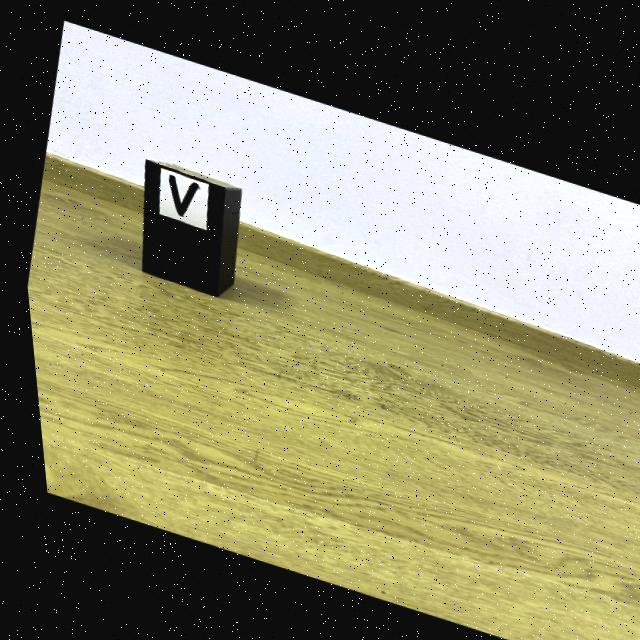V: (165, 172, 195, 212)
